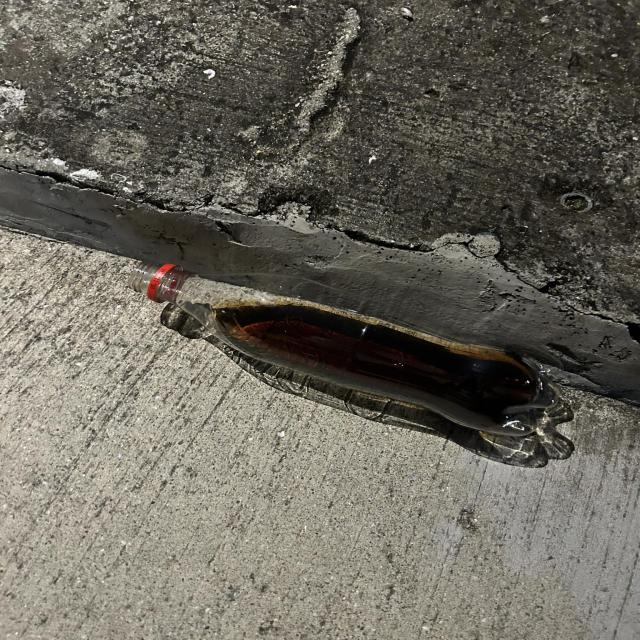low: (129, 261, 557, 437)
